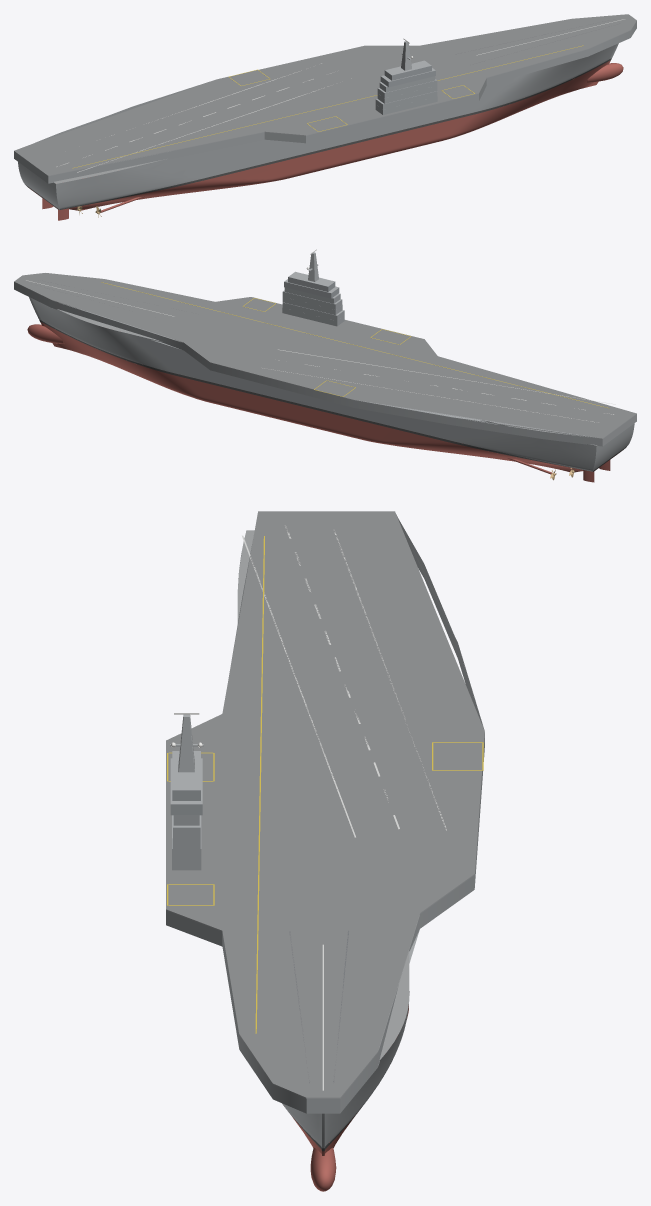
File: carrier.glb
3 views of the same model, one above another, from view 1: azimuth 30°, elevation 25°; view 2: azimuth 150°, elevation 25°; view 3: azimuth 270°, elevation 25° (orthographic). The views are drawn at different scales.
Size of the model in its own units: 330 by 64.99 by 75.85.
